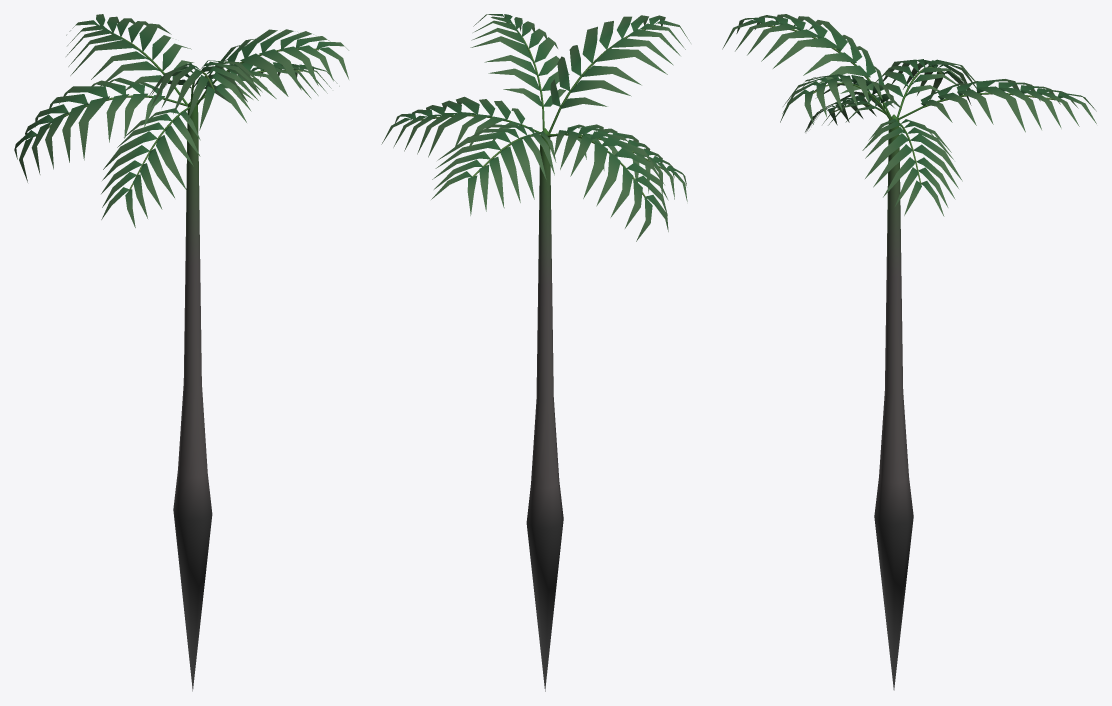
The model's file is trees-palms-ferns-palm-tree_v3.glb.
3 renders of one model, left to right at view 1: azimuth 30°, elevation 25°; view 2: azimuth 150°, elevation 25°; view 3: azimuth 270°, elevation 25°, orthographic. The views are drawn at different scales.
Parts seen in each view (by area): view 1: Palm Tree_v3; view 2: Palm Tree_v3; view 3: Palm Tree_v3.
Part boxes in pixels (x1,y1,x2,y2): Palm Tree_v3: (14,14,348,691); Palm Tree_v3: (381,14,690,691); Palm Tree_v3: (722,14,1096,690).
Size of the model in its own units: 5.69 by 12 by 6.27.
